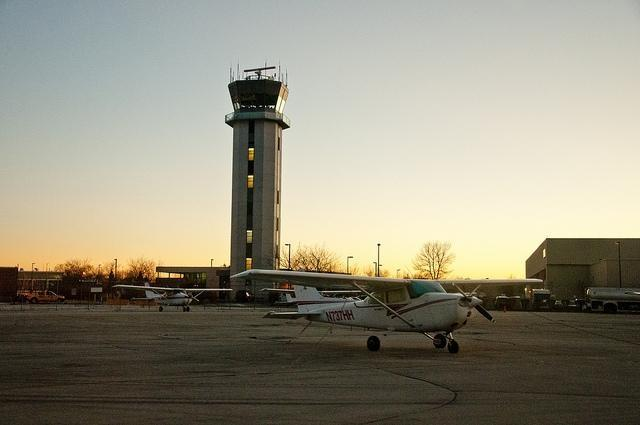car: (570, 298, 588, 312)
truck: (586, 285, 640, 313), (16, 290, 66, 305), (494, 295, 524, 312), (529, 288, 550, 311)
